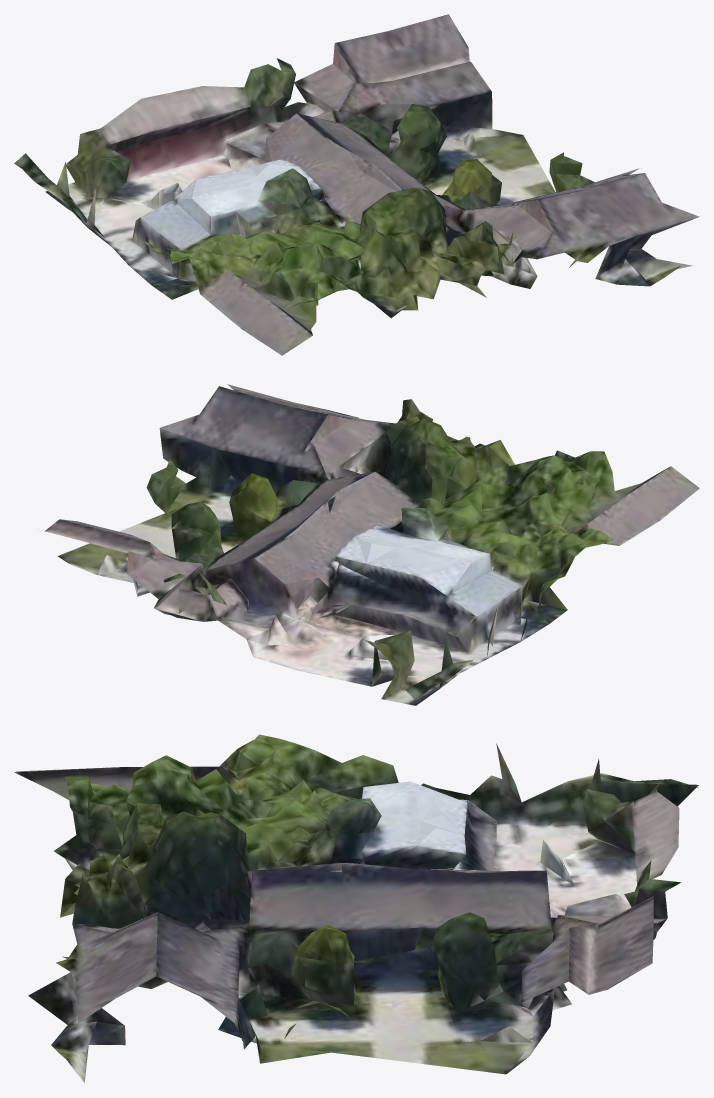
File: Tile_+002_+006_L16_0.glb
The picture shows the model from 3 angles, top to bottom: view 1: azimuth 30°, elevation 25°; view 2: azimuth 150°, elevation 25°; view 3: azimuth 270°, elevation 25°; orthographic projection. The views are drawn at different scales.
Visible parts, largest first — view 1: rtc; view 2: rtc; view 3: rtc.
Boxes of the visible parts, x1,y1,x2,y2 form: rtc: (14,14,699,355); rtc: (44,384,699,705); rtc: (14,734,698,1082).
Size of the model in its own units: 58.65 by 12.86 by 61.01.
Materials: 1 (1 with a texture image).
